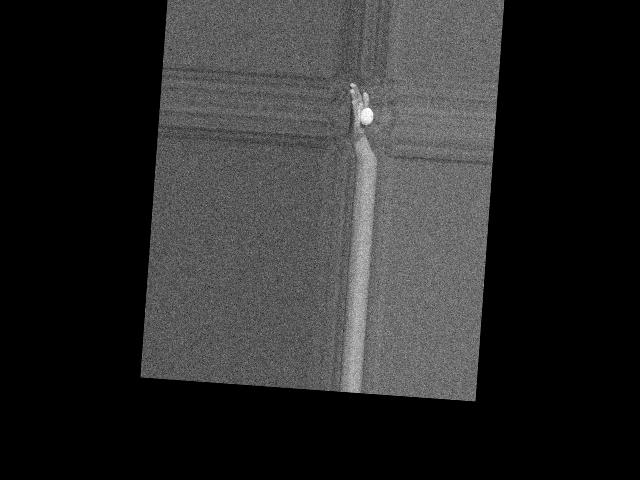egg: (359, 107, 374, 125)
